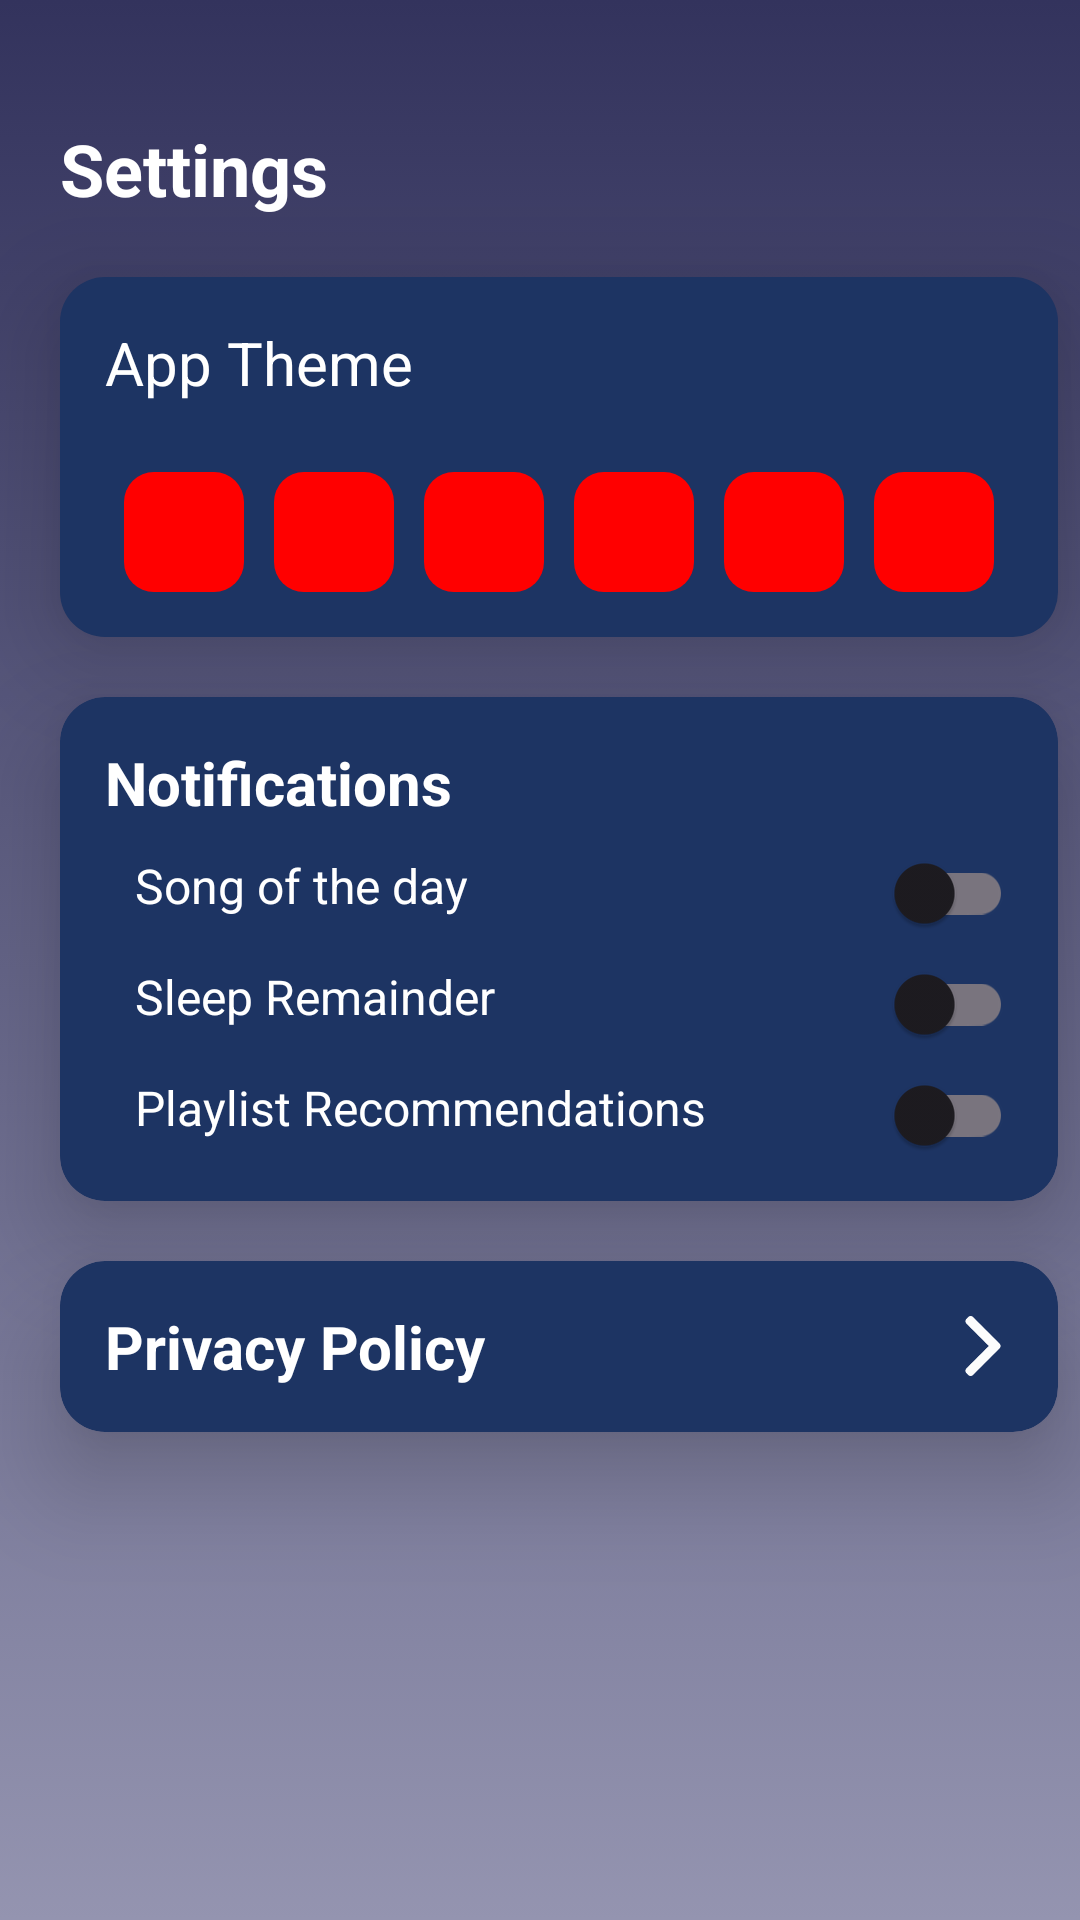

Point at icon controls on the screen. Image size 1080w x 1920h, points as [x,y].
right arrow: [983,1346]
